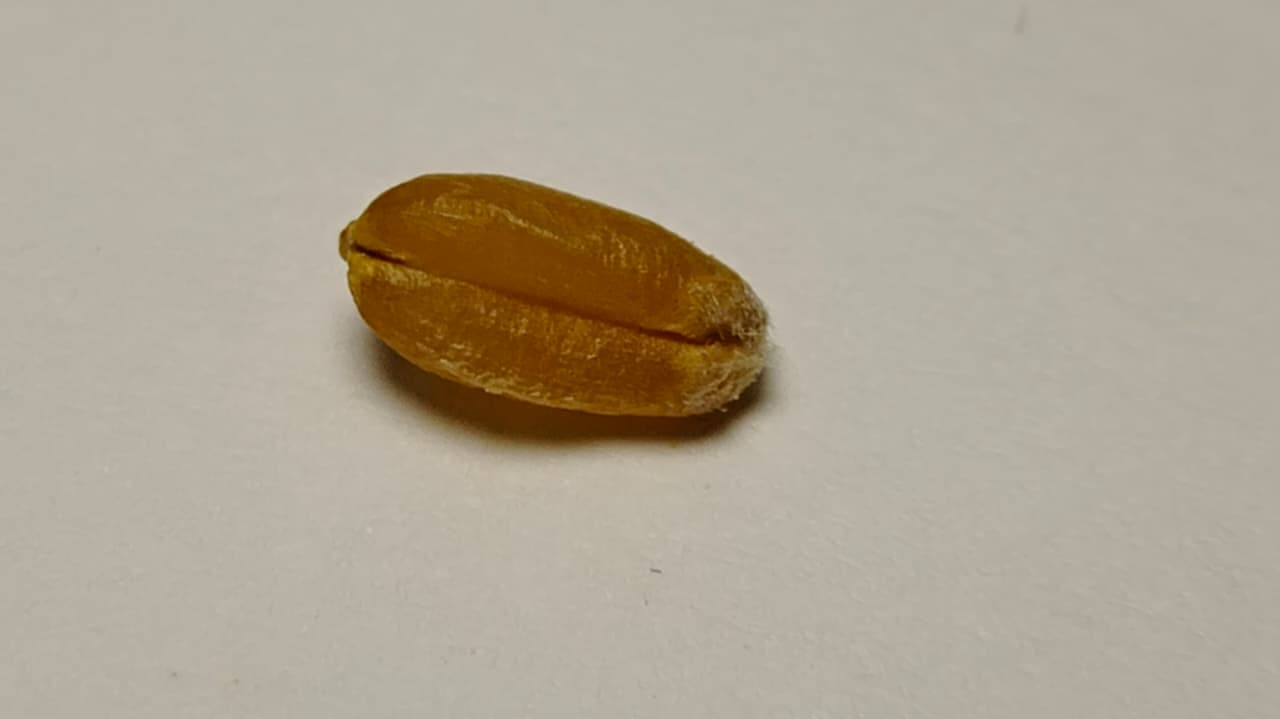healthy: (340, 174, 765, 415)
